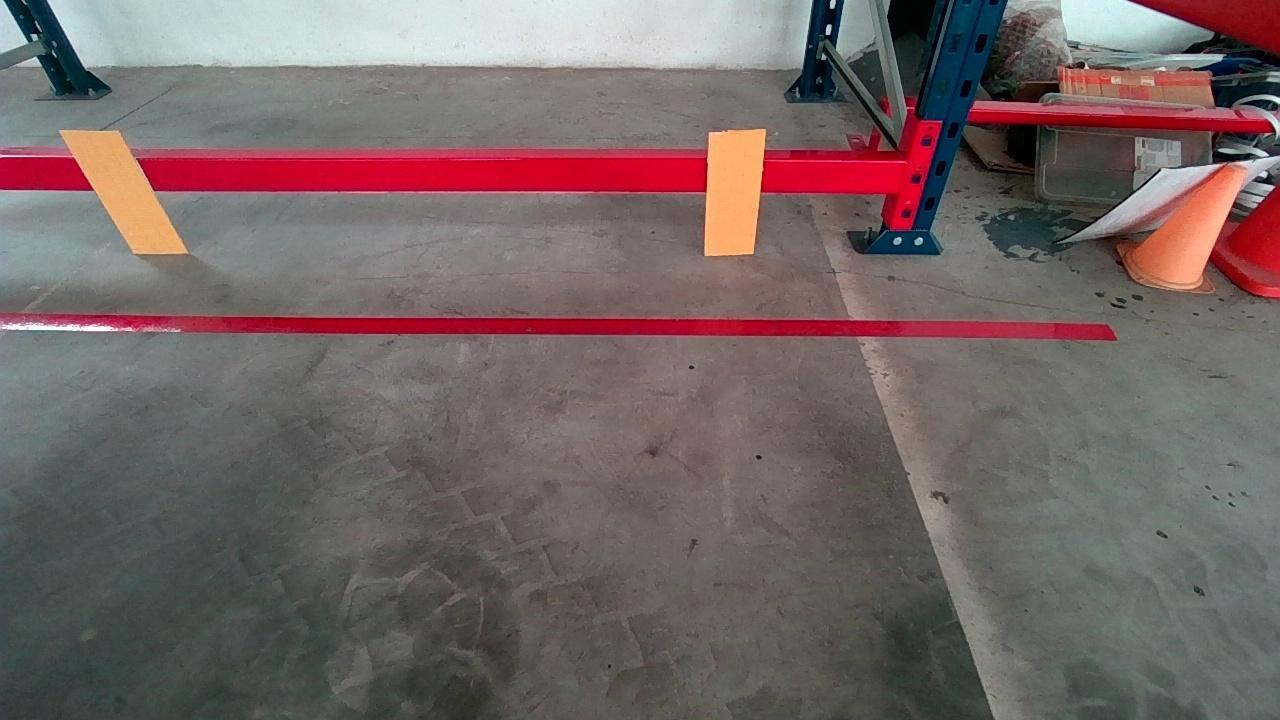h_rack: (6, 153, 904, 199)
orange_strip: (62, 130, 187, 251), (704, 130, 763, 254)
red_line: (5, 302, 1111, 348)
